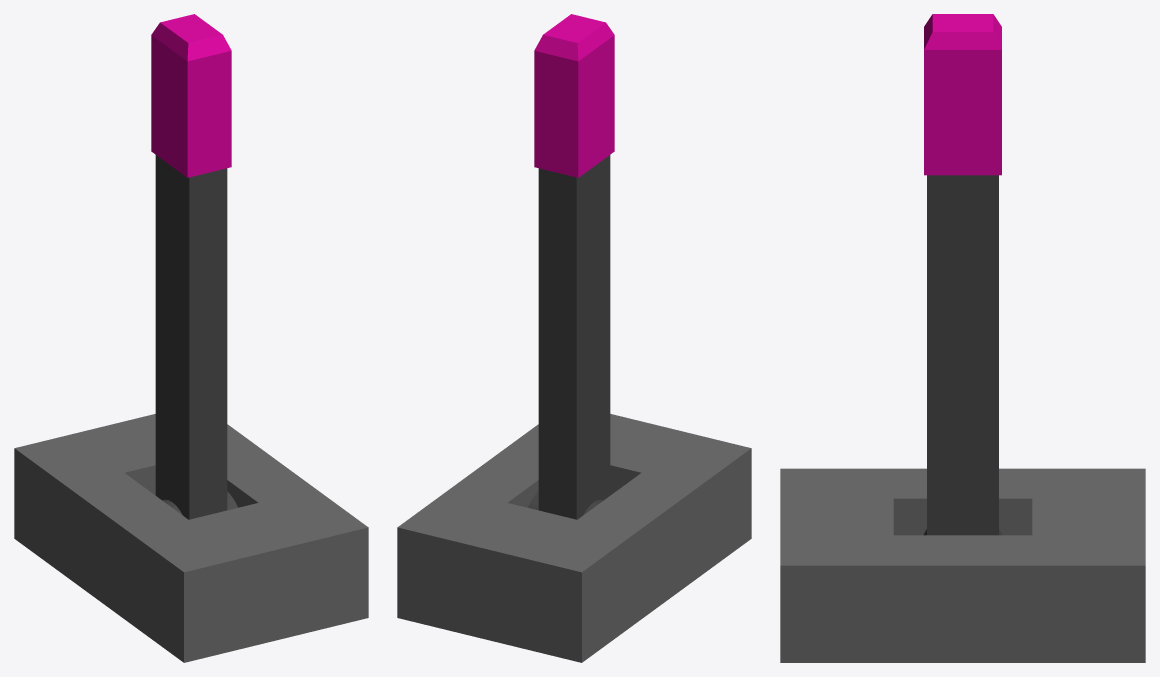
Rendered from PinkLeverWB.glb.
3 views of the same model, side by side, from view 1: azimuth 30°, elevation 25°; view 2: azimuth 150°, elevation 25°; view 3: azimuth 270°, elevation 25° (orthographic). The views are drawn at different scales.
Visible parts, largest first — view 1: Base, Handle, Top; view 2: Base, Handle, Top; view 3: Base, Handle, Top.
Part boxes in pixels (left/top/right/bottom): Base: left=14, top=414, right=368, bottom=662; Handle: left=155, top=155, right=237, bottom=519; Top: left=151, top=14, right=231, bottom=177; Base: left=397, top=414, right=751, bottom=662; Handle: left=528, top=155, right=610, bottom=519; Top: left=534, top=14, right=614, bottom=177; Base: left=780, top=468, right=1145, bottom=662; Handle: left=924, top=175, right=1001, bottom=535; Top: left=924, top=14, right=1001, bottom=175.
Size of the model in its own units: 0.38 by 1.08 by 0.6054.
